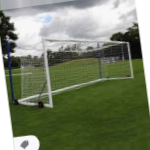goals: (14, 36, 137, 112)
